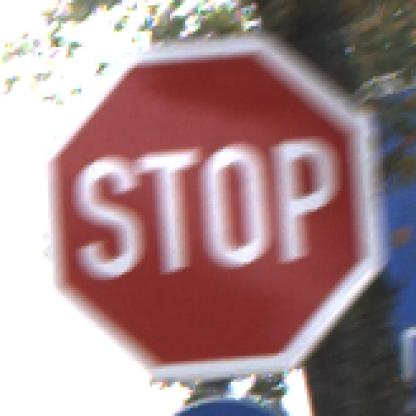stop: (31, 32, 399, 395)
